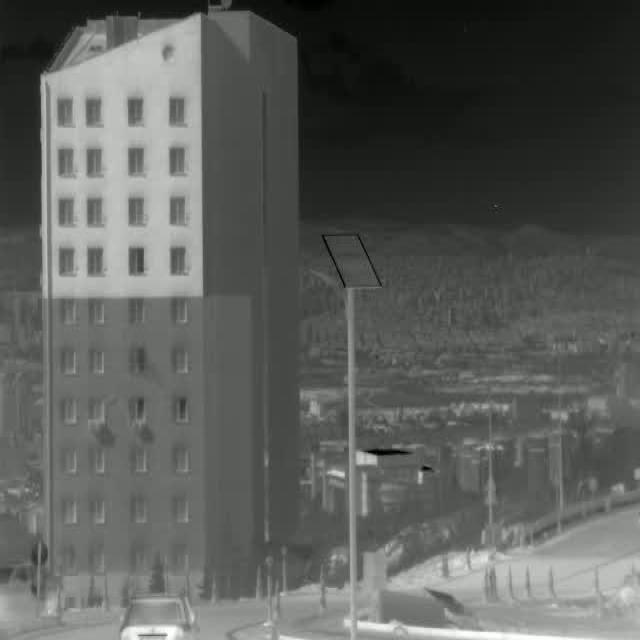Car: (117, 590, 199, 640)
